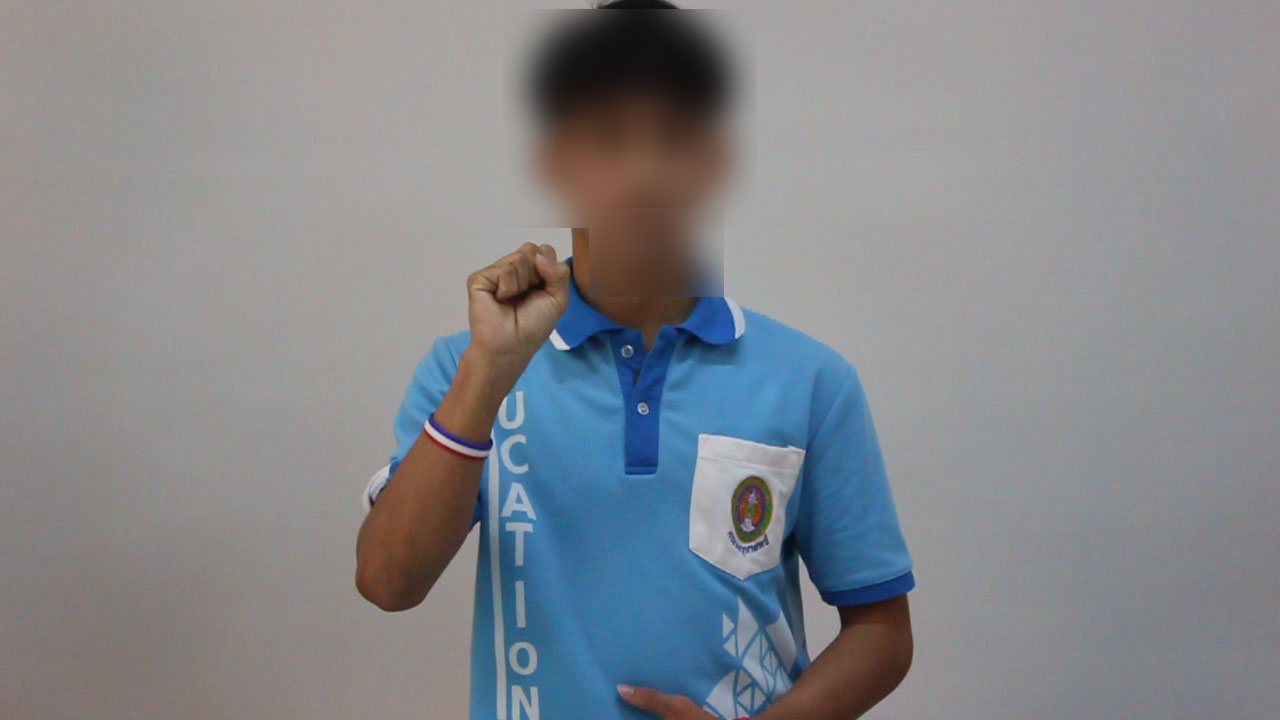sor: (445, 233, 581, 386)
